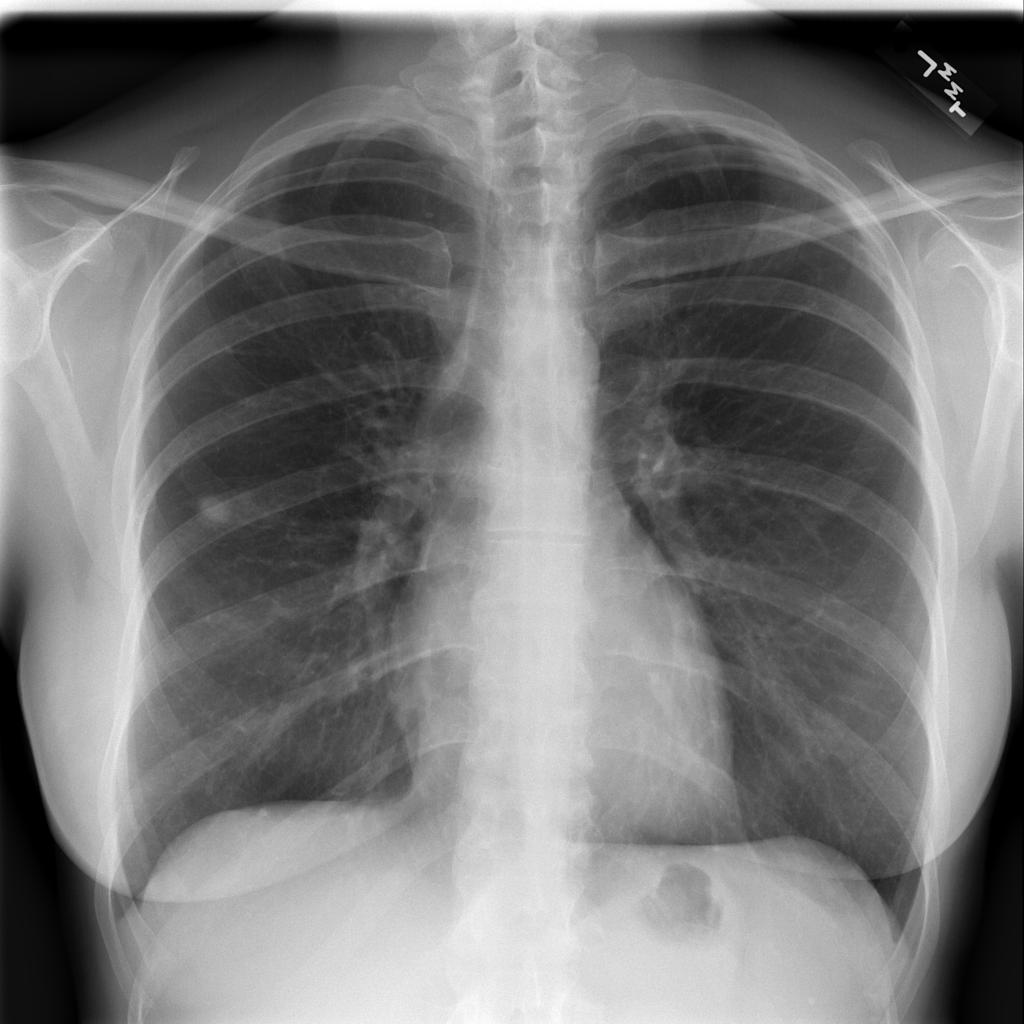nodule: (178, 477, 259, 540)
